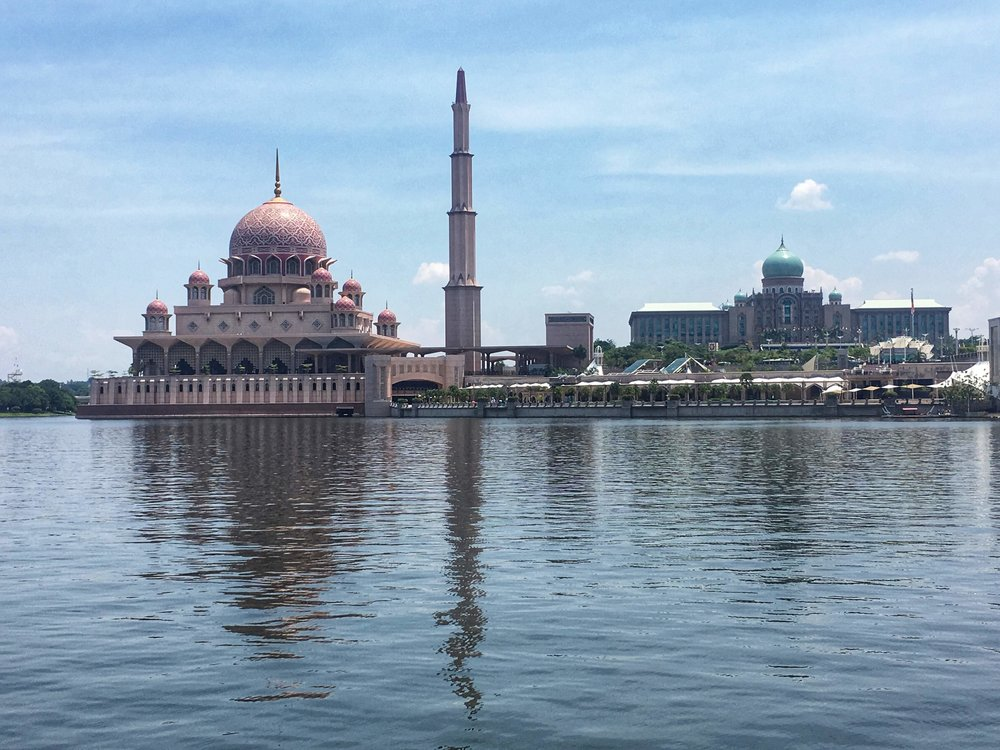Mosque: (88, 59, 955, 411)
